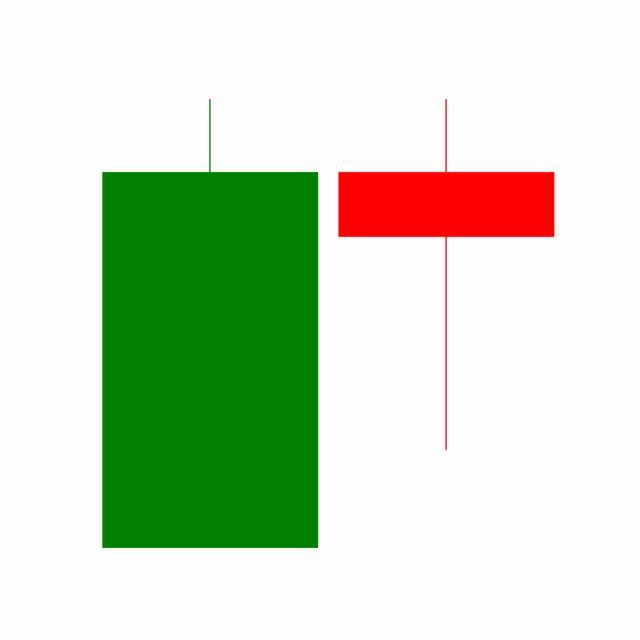Spinning Top: (328, 96, 566, 455)
